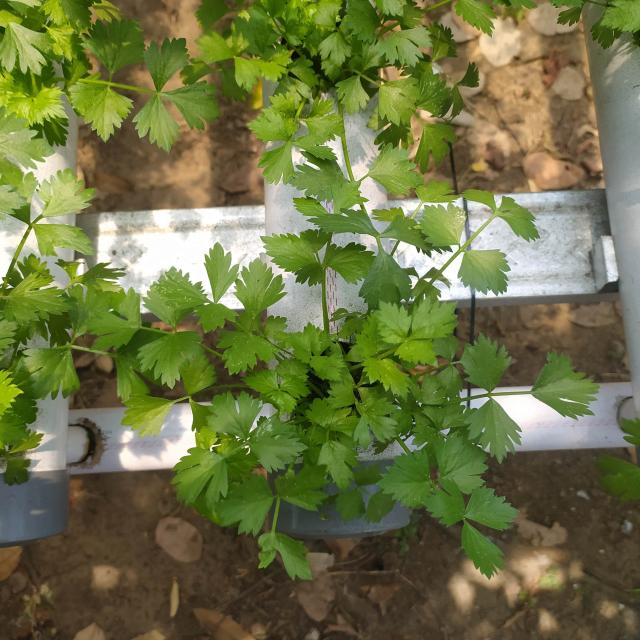Wet Waste: (166, 110, 575, 520)
